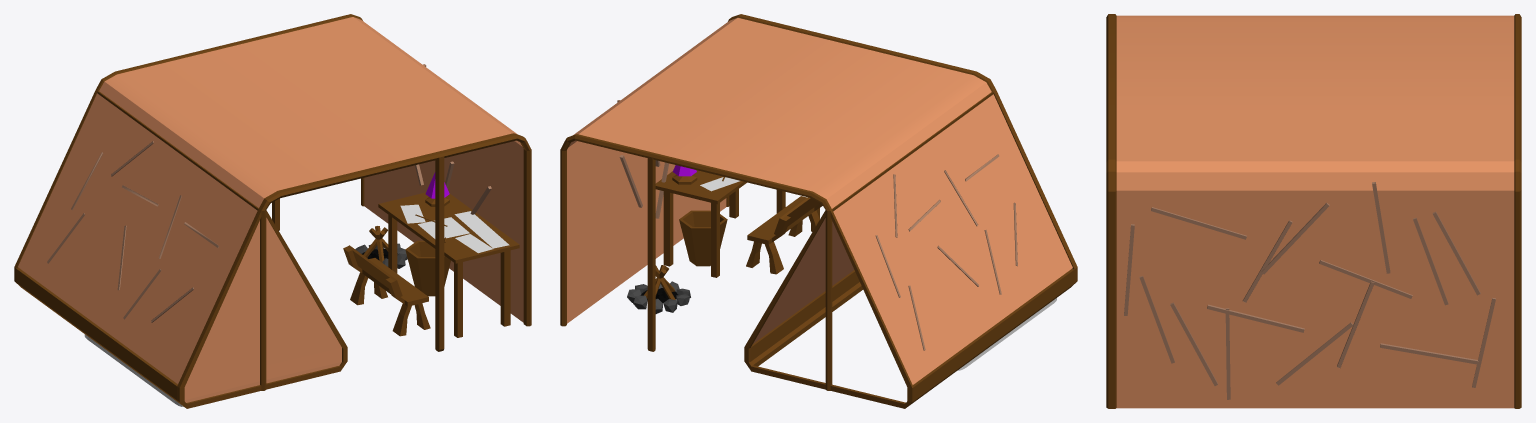
The model's file is Forge 1 l1vel.fbx.
3 renders of one model, left to right at view 1: azimuth 30°, elevation 25°; view 2: azimuth 150°, elevation 25°; view 3: azimuth 270°, elevation 25°, orthographic. The views are drawn at different scales.
Parts seen in each view (by area): view 1: Forgw_first_level, Stol, Cube, Cube.002, Circle.001, Icosphere, Plane.003, Plane; view 2: Forgw_first_level, Stol, Cube, Circle.001, Cube.002, Icosphere, Cube.004; view 3: Forgw_first_level, Cube.003, Cube.002.
Part boxes in pixels (x1,y1,x2,y2): Forgw_first_level: (14, 14, 531, 408); Stol: (84, 192, 519, 407); Cube: (343, 245, 430, 336); Cube.002: (47, 141, 218, 322); Circle.001: (405, 240, 450, 296); Icosphere: (355, 226, 407, 268); Plane.003: (454, 211, 509, 248); Plane: (418, 217, 469, 238); Forgw_first_level: (560, 14, 1077, 408); Stol: (655, 170, 1056, 370); Cube: (746, 196, 822, 274); Circle.001: (679, 210, 727, 266); Cube.002: (875, 154, 1017, 350); Icosphere: (627, 265, 690, 313); Cube.004: (619, 155, 668, 218); Forgw_first_level: (1106, 14, 1521, 408); Cube.003: (1124, 182, 1480, 385); Cube.002: (1139, 207, 1495, 399).
Size of the model in its own units: 6047 by 3315 by 4970.
